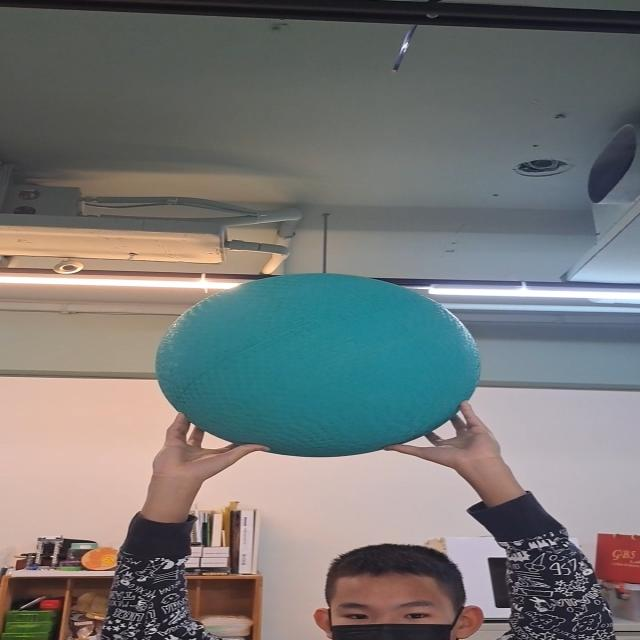ALGAE: (157, 274, 479, 458)
